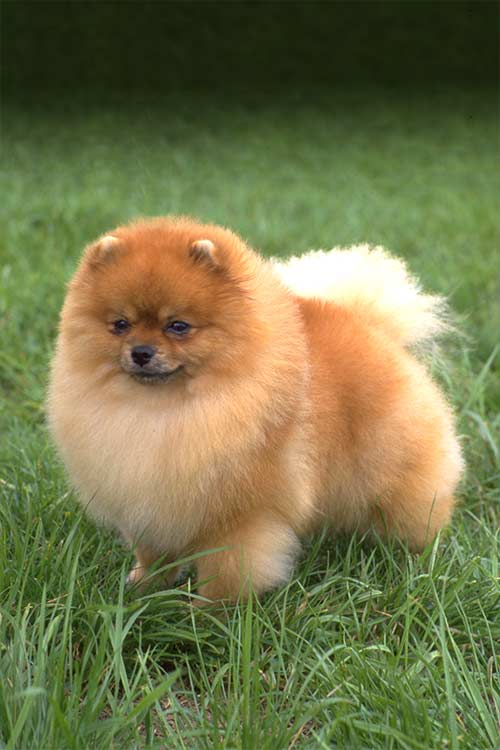pomeranian: (45, 210, 486, 605)
